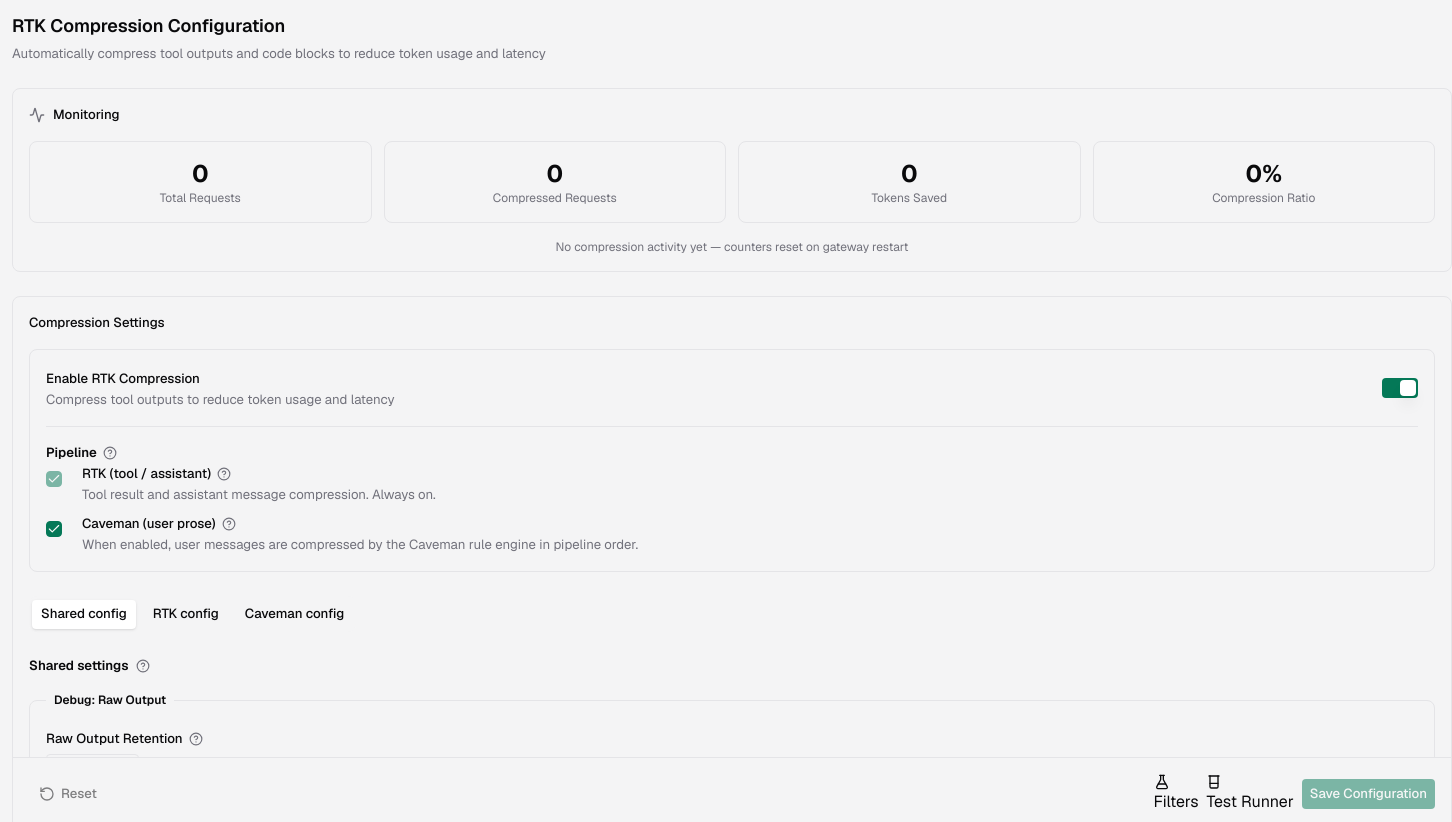
Test case: RtkFragment — pipeline checkboxes inside the enablement card › bounces back to the shared tab when Caveman is disabled while on its tab
The image size is (1452, 822).
Press the mouse on the tab with test id "rtk-tab-caveman" at {"x": 294, "y": 614}, box [236,600,353,628]
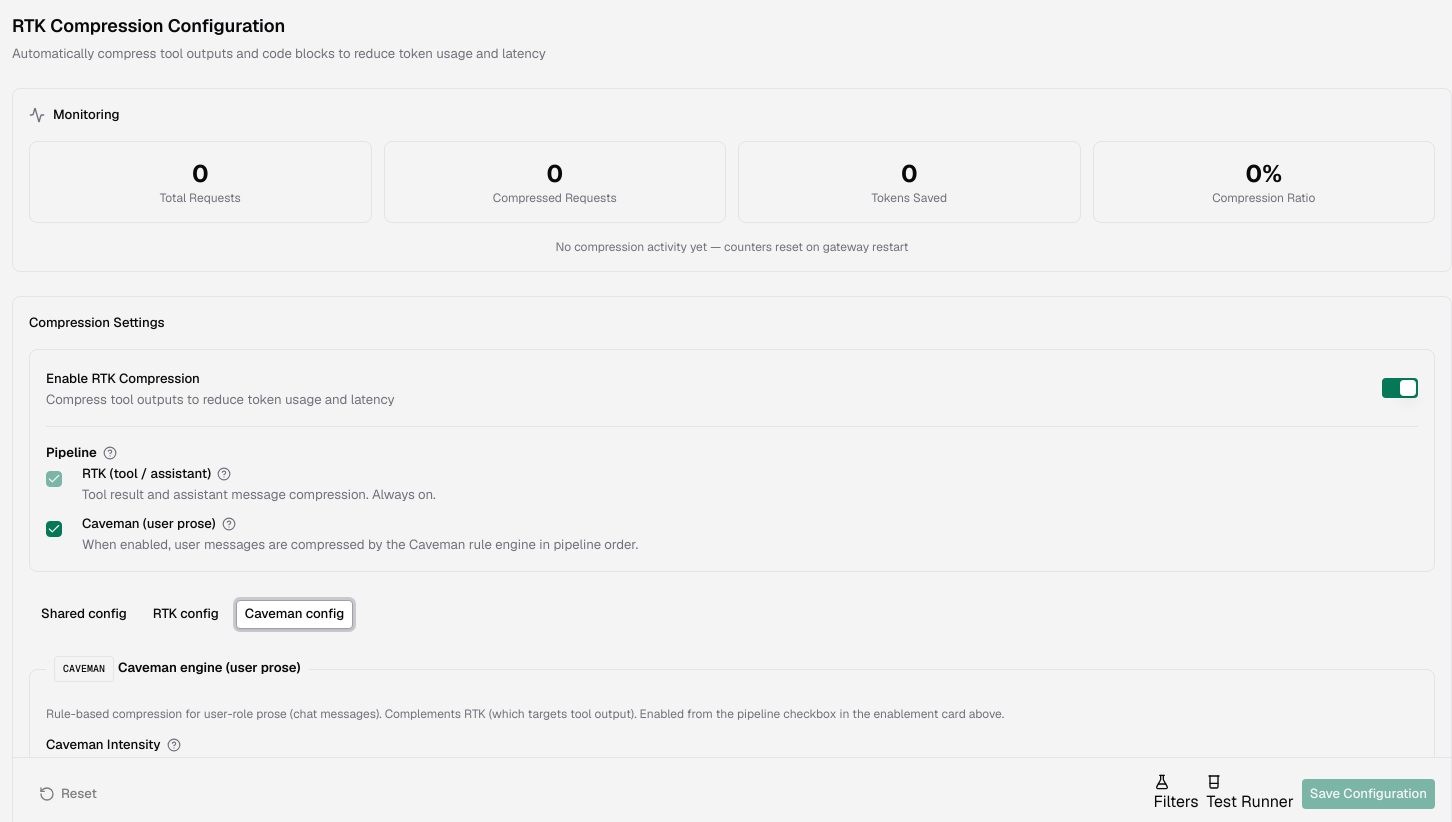
Uncheck Caveman in the pipeline checkbox.
Click the checkbox with test id "pipeline-caveman-checkbox" at {"x": 54, "y": 529}, box [46,521,62,537]
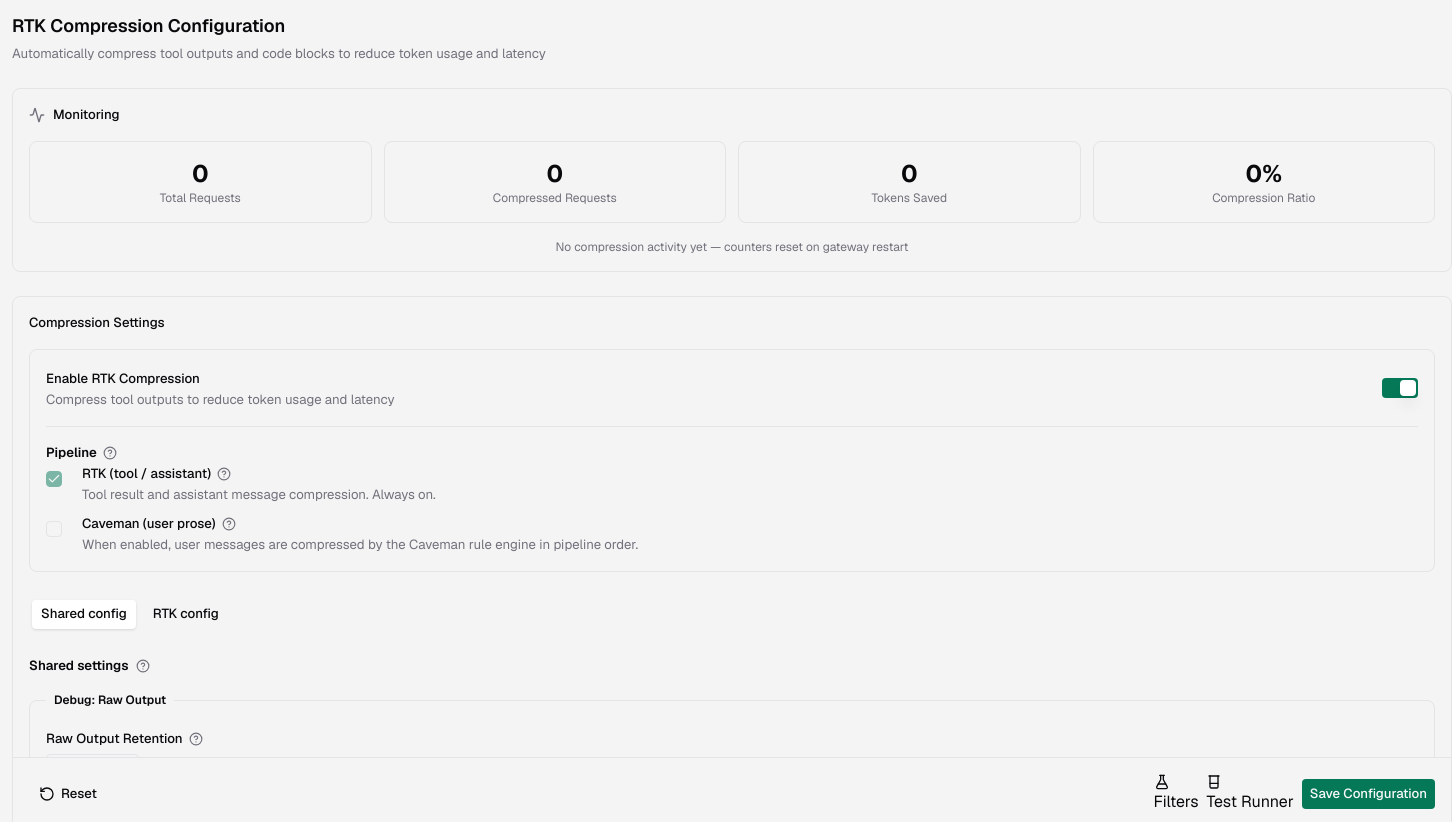
expect the tab with test id "rtk-tab-caveman" is gone: met
